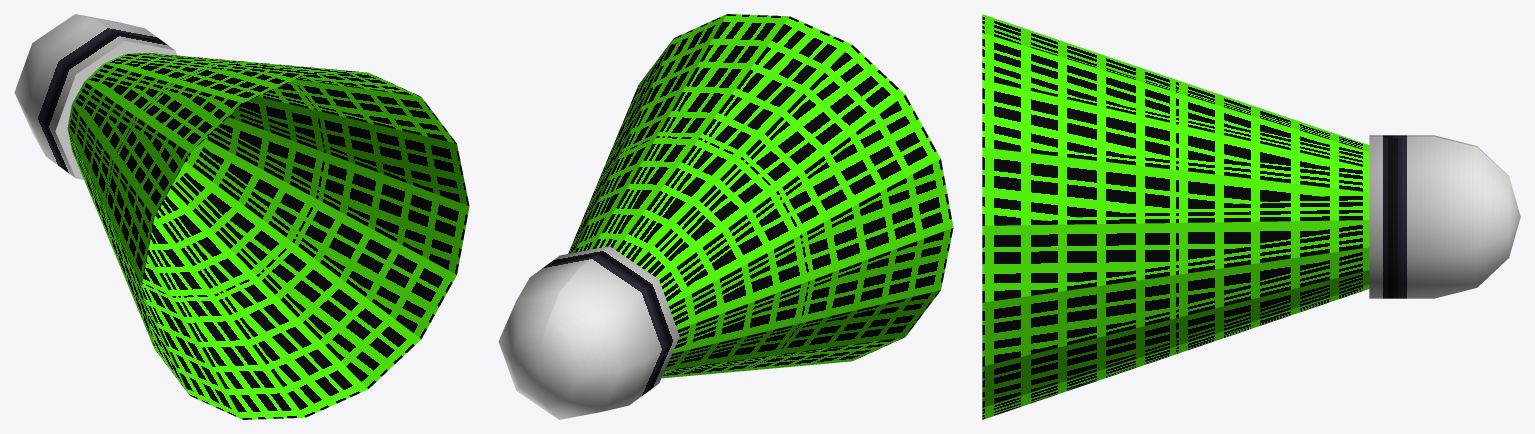
File: mdl_raqscene_badminton_shuttlecock.glb
The picture shows the model from 3 angles, left to right: view 1: azimuth 30°, elevation 25°; view 2: azimuth 150°, elevation 25°; view 3: azimuth 270°, elevation 25°; orthographic projection. The views are drawn at different scales.
Parts seen in each view (by area): view 1: badminton_shuttlecock; view 2: badminton_shuttlecock; view 3: badminton_shuttlecock.
Part boxes in pixels (box(x1,y1,x2,y2)): badminton_shuttlecock: box(14, 14, 469, 419); badminton_shuttlecock: box(498, 14, 953, 419); badminton_shuttlecock: box(982, 14, 1520, 419).
Bounding box in the file's own units: 0.063 × 0.063 × 0.0835.
Materials: 1 (1 with a texture image).
